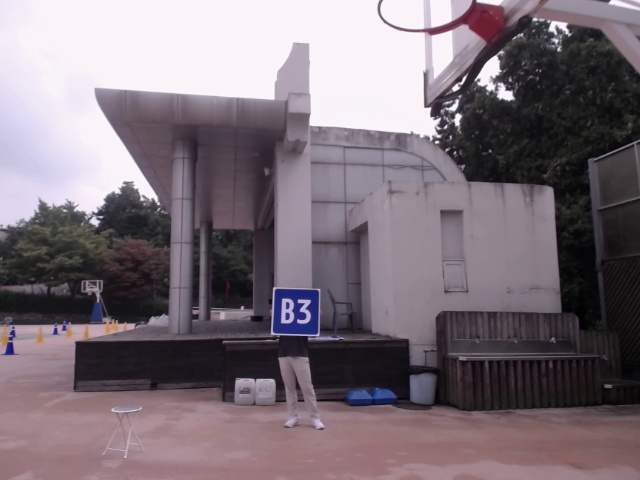delivery_b3: (271, 288, 319, 336)
